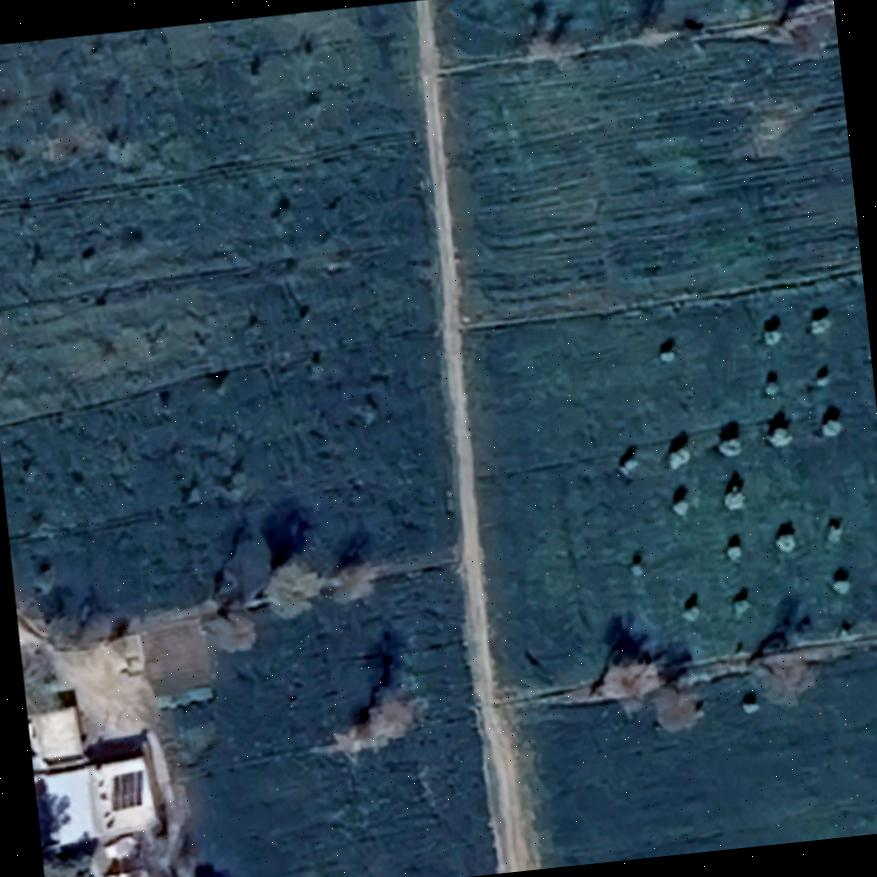Solarpanel: (103, 765, 147, 814)
